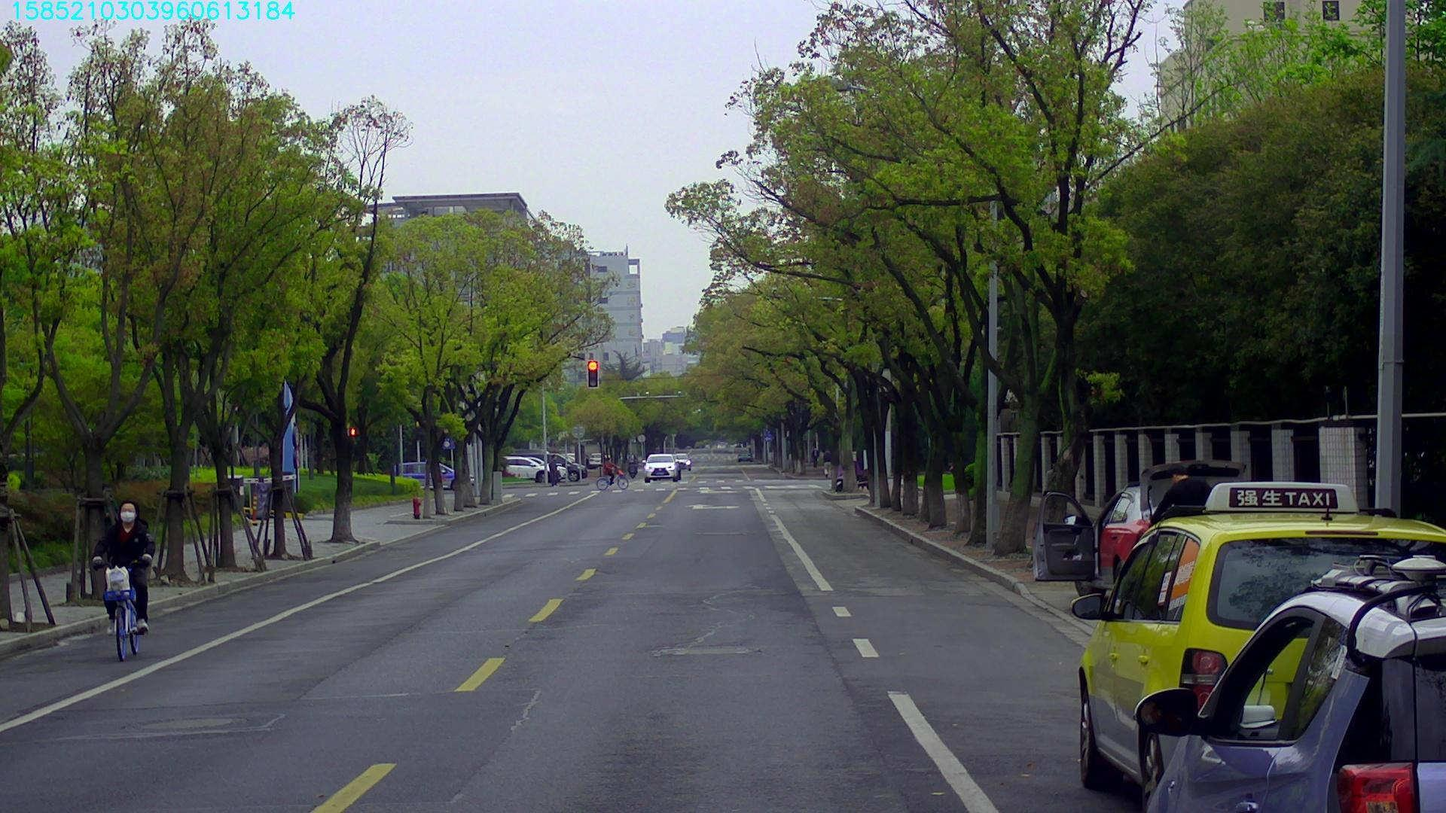red: (587, 360, 598, 388)
